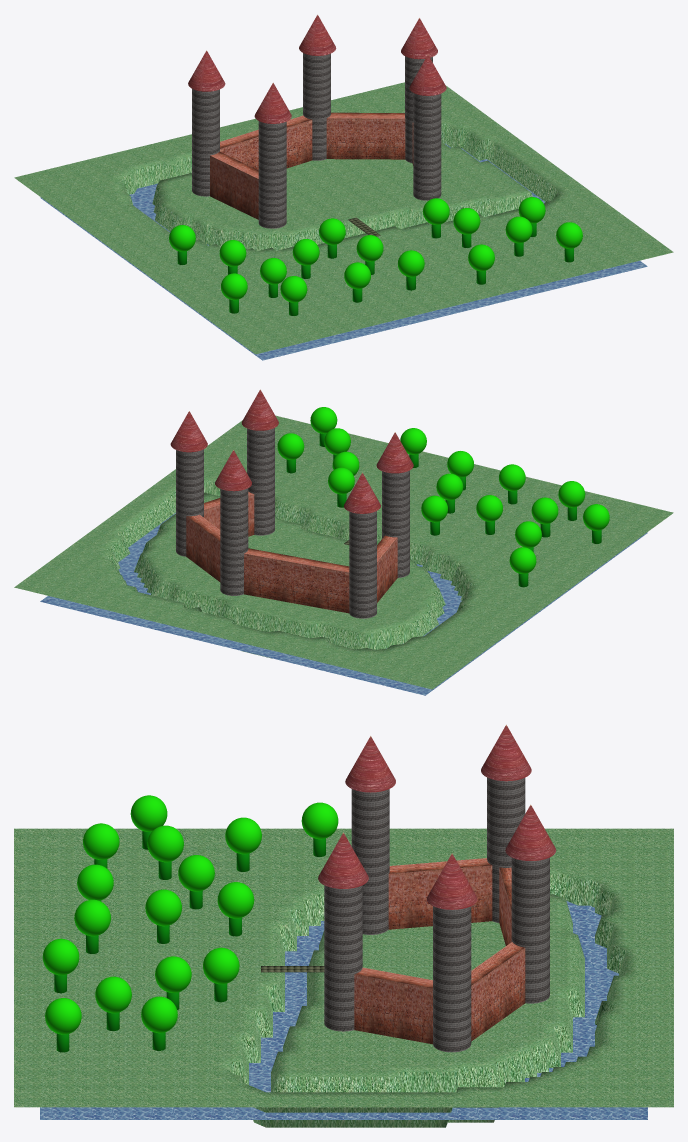
Rendered from castle.glb.
The picture shows the model from 3 angles, top to bottom: view 1: azimuth 30°, elevation 25°; view 2: azimuth 150°, elevation 25°; view 3: azimuth 270°, elevation 25°; orthographic projection. The views are drawn at different scales.
Visible parts, largest first — view 1: Plane, Plane.001, Cylinder.001, Cylinder.002, Cube.003, Cylinder, Cylinder.003, Cube.002, Cube.001, Cylinder.004, Cylinder.009, Cylinder.018 (+14 smaller); view 2: Plane, Plane.001, Cube.001, Cylinder, Cylinder.003, Cylinder.002, Cylinder.001, Cylinder.004, Cube.003, Cube.002, Cylinder.008, Cylinder.006 (+14 smaller); view 3: Plane, Plane.001, Cylinder.004, Cylinder.002, Cylinder.003, Cylinder.001, Cube.004, Cylinder, Cube.002, Cube.003, Cylinder.005, Cylinder.017 (+15 smaller).
Boxes of the visible parts, x1,y1,x2,y2 form: Plane: (14,82,673,354); Plane.001: (40,143,647,360); Cylinder.001: (254,82,291,228); Cylinder.002: (409,55,446,200); Cube.003: (326,112,405,159); Cylinder: (188,50,225,196); Cylinder.003: (299,14,336,160); Cube.002: (210,151,258,219); Cube.001: (220,115,312,170); Cylinder.004: (401,18,437,163); Cylinder.009: (344,262,370,302); Cylinder.018: (505,216,532,256); Plane: (14,415,673,689); Plane.001: (40,513,647,695); Cube.001: (244,548,349,613); Cylinder: (344,472,380,618); Cylinder.003: (215,450,251,595); Cylinder.002: (241,389,278,535); Cylinder.001: (376,432,413,577); Cylinder.004: (170,411,207,556); Cube.003: (186,514,220,581); Cube.002: (377,535,397,602); Cylinder.008: (509,547,536,587); Cylinder.006: (531,497,558,537); Plane: (14,828,673,1127); Plane.001: (40,901,647,1119); Cylinder.004: (426,853,477,1052); Cylinder.002: (318,832,368,1031); Cylinder.003: (505,804,556,1003); Cylinder.001: (345,736,395,934); Cube.004: (354,967,432,1044); Cylinder: (481,724,531,922); Cube.002: (388,858,492,929); Cube.003: (471,942,525,1041); Cylinder.005: (178,855,214,909); Cylinder.017: (141,996,177,1050).
Bounding box in the file's own units: 100 × 38.8 × 100.
Materials: 8 (6 with a texture image).
